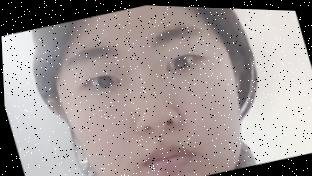eye: (96, 74, 110, 88), (173, 54, 187, 67)
iris: (163, 50, 201, 72), (81, 71, 119, 91)
